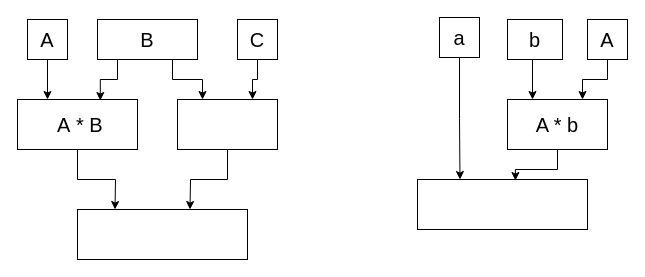
Some shapes in this 645 by 277 pixel diagram are drawn without their labels. Here are the shapes that lost their labels. From the top down, the centre of each, then its label:
(x=227, y=124): B * C
(x=502, y=204): a - A*b
(x=162, y=234): A * B - B * C
